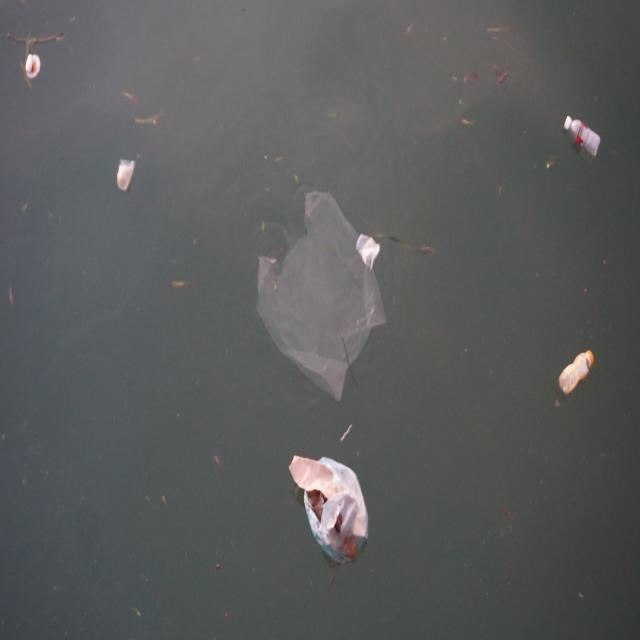Botol Plastik: (556, 346, 603, 400), (562, 107, 603, 168)
Bungkus Minuman: (109, 153, 142, 204), (25, 51, 44, 83)
Kantong Plastik: (255, 185, 391, 406), (290, 447, 373, 574)
